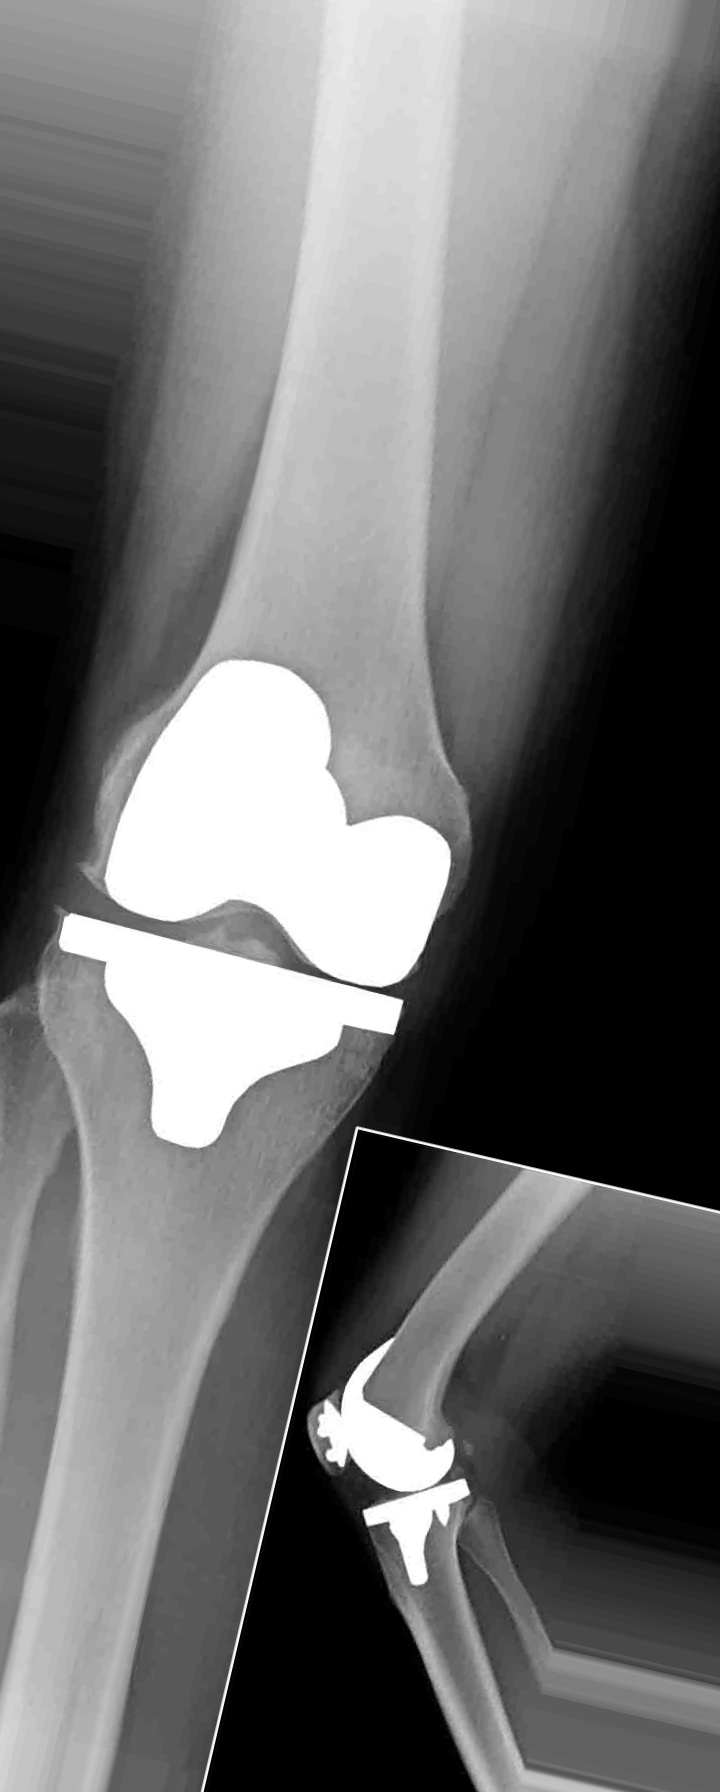Knee-TriathlonTritanium-Stryker: (51, 663, 455, 1147), (311, 1335, 488, 1585)
